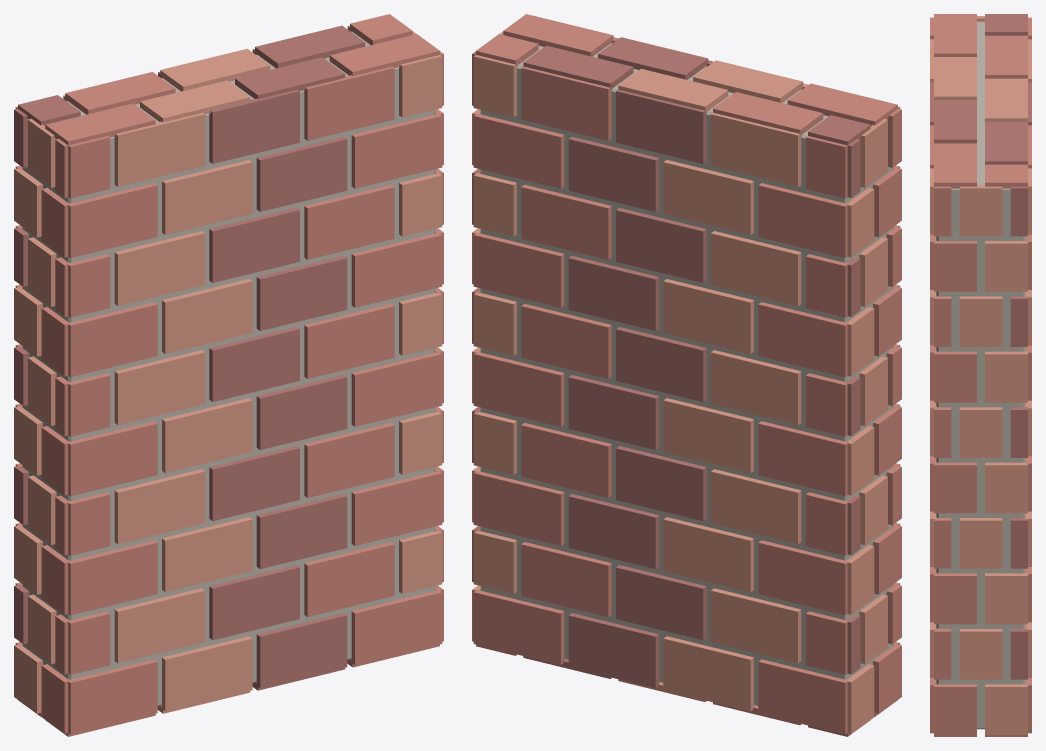
Rendered from FTF_Building_Solid_Brick_Wall_2x3m.glb.
3 views of the same model, side by side, from view 1: azimuth 30°, elevation 25°; view 2: azimuth 150°, elevation 25°; view 3: azimuth 270°, elevation 25° (orthographic). The views are drawn at different scales.
Visible parts, largest first — view 1: FrontBrickPattern, LeftBrickPattern, SolidWallCore, TopBrickPattern, RightBrickPattern, BottomBrickPattern; view 2: BackBrickPattern, LeftBrickPattern, SolidWallCore, TopBrickPattern, RightBrickPattern, BottomBrickPattern; view 3: RightBrickPattern, TopBrickPattern, SolidWallCore, FrontBrickPattern, BackBrickPattern.
Boxes of the visible parts, x1,y1,x2,y2 form: FrontBrickPattern: (67,55,442,734); LeftBrickPattern: (14,108,70,733); SolidWallCore: (22,31,435,706); TopBrickPattern: (18,14,439,145); RightBrickPattern: (410,31,443,641); BottomBrickPattern: (18,644,439,736); BackBrickPattern: (473,55,848,734); LeftBrickPattern: (845,108,901,733); SolidWallCore: (480,43,893,706); TopBrickPattern: (476,14,897,145); RightBrickPattern: (472,31,505,641); BottomBrickPattern: (476,644,897,736); RightBrickPattern: (934,185,1027,734); TopBrickPattern: (934,14,1027,188); SolidWallCore: (936,21,1025,729); FrontBrickPattern: (930,17,936,733); BackBrickPattern: (1025,17,1031,733).
Bounding box in the file's own units: 2 × 3 × 0.5.
